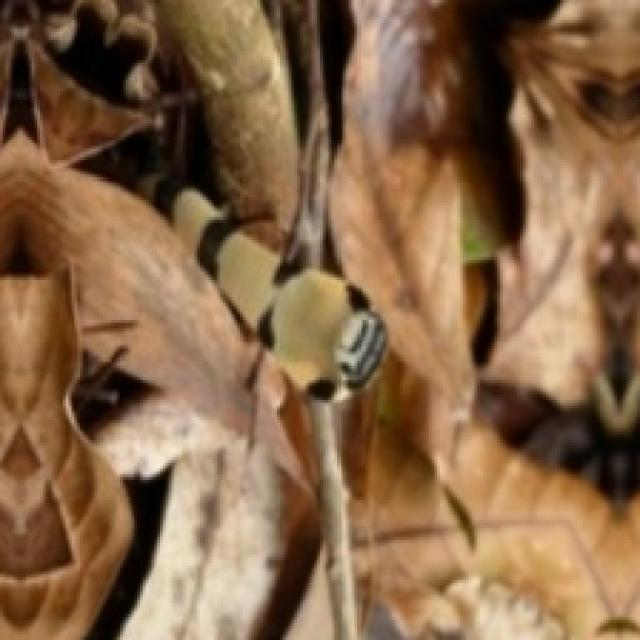king cobra: (0, 0, 637, 637), (0, 0, 329, 637), (160, 0, 294, 220)
